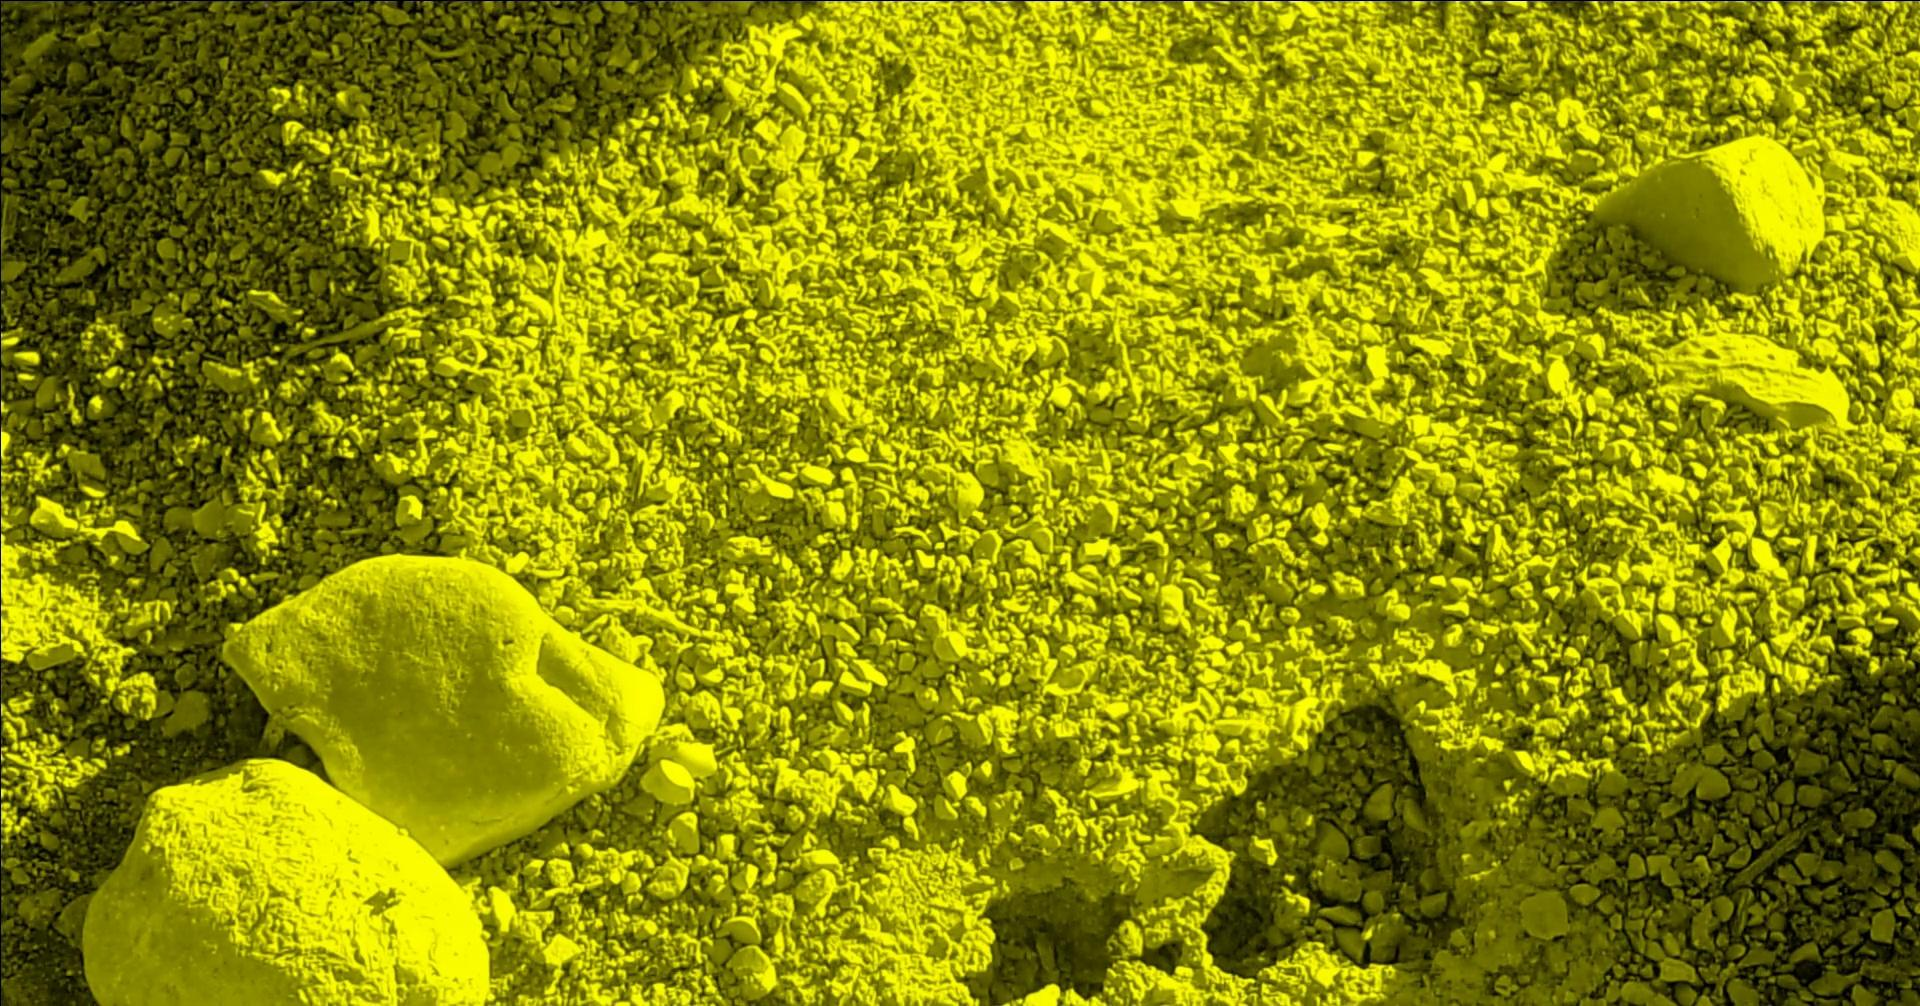ant: (0, 0, 63, 3), (278, 0, 342, 3)
